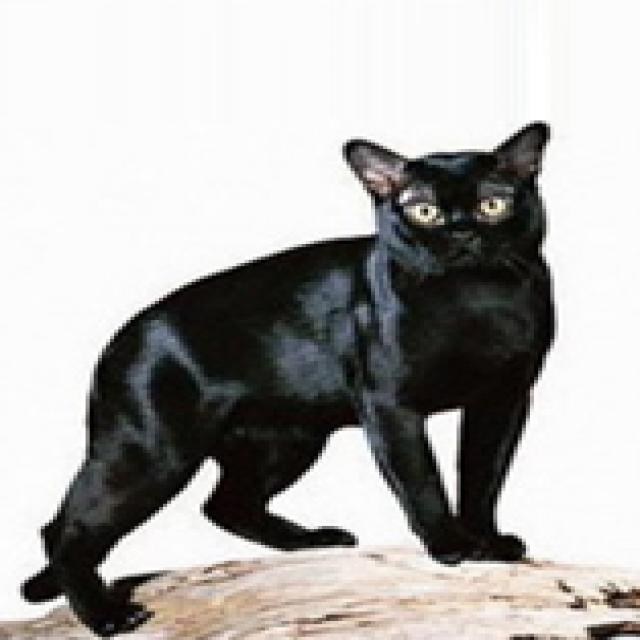Bombay: (339, 118, 543, 270)
